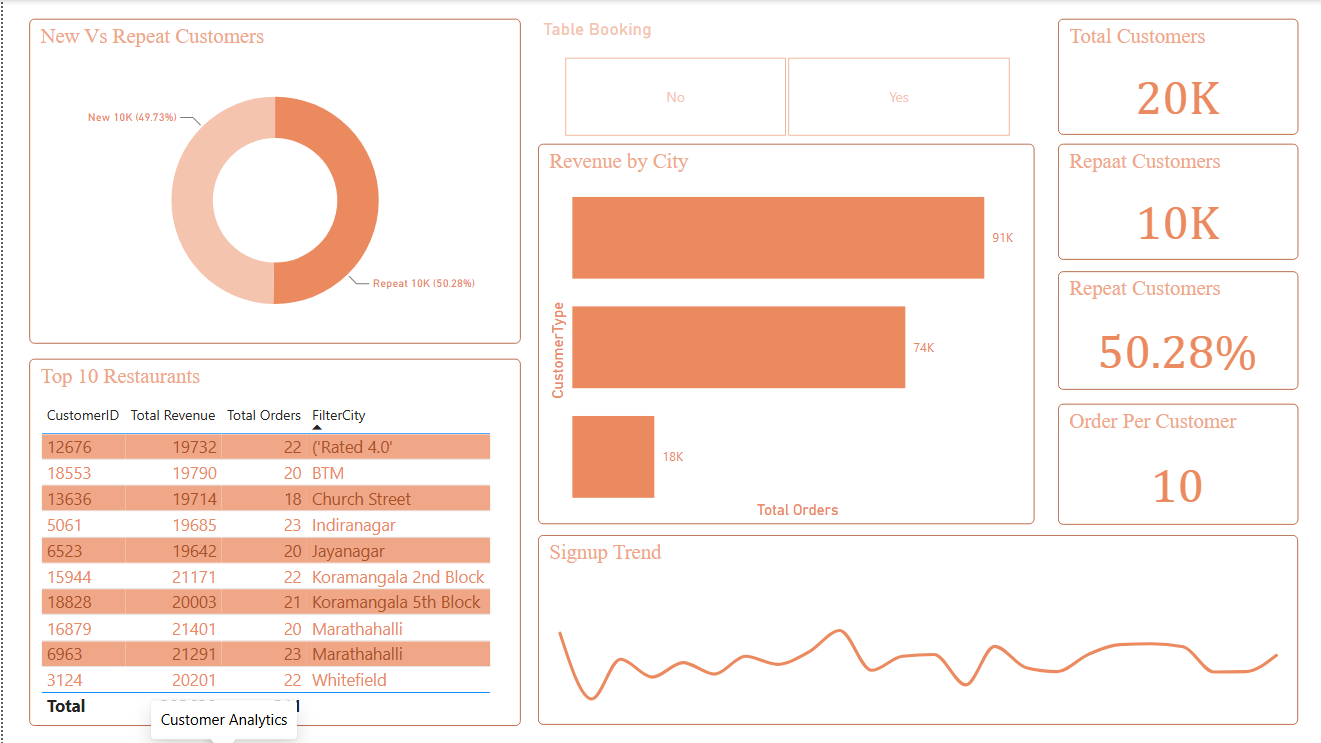

This screenshot's page, from the dashboard's own definition file:
{"tool":"powerbi","page":{"name":"Customer Analytics","canvas":[1280,720],"ordinal":1},"visuals":[{"type":"cardVisual","title":"Total Customers","fields":{"Data":["Orders.Total Customers"]},"box":[1018.2,18.1,231.6,112.2],"z":0},{"type":"cardVisual","title":"Order Per Customer","fields":{"Data":["Orders.Orders Per Customer"]},"box":[1018.2,389.7,231.6,117],"z":1000},{"type":"cardVisual","title":"Repeat Customers ","fields":{"Data":["Orders.Repeat Customer %"]},"box":[1018.2,261.8,231.6,114.6],"z":2000},{"type":"cardVisual","title":"Repaat Customers","fields":{"Data":["Orders.Repeat Customers"]},"box":[1018.2,138.7,231.6,112.2],"z":3000},{"type":"barChart","title":"Revenue by City","fields":{"Y":["Orders.Total Orders"],"Category":["Customers.CustomerType"]},"box":[516.3,138.7,479.1,367.6],"z":4000},{"type":"donutChart","title":"New Vs Repeat Customers","fields":{"Category":["Customers.RepeatedVsNew"],"Y":["Orders.Total Customers"]},"box":[25.3,18.1,474.1,313.7],"z":5000},{"type":"tableEx","title":"Top 10 Restaurants","fields":{"Values":["Customers.CustomerID","Orders.Total Revenue","Orders.Total Orders","Customers.FilterCity"]},"box":[25.3,346.2,474.1,354.7],"z":6000},{"type":"lineChart","title":"Signup Trend","fields":{"Y":["Orders.Total Customers"],"Category":["Customers.SignupDate.Variation.Date Hierarchy.Year","Customers.SignupDate.Variation.Date Hierarchy.Month"]},"box":[516.4,516.4,733.5,183.4],"z":7000},{"type":"slicer","title":"Table Booking","fields":{"Values":["Restaurants.Book_Table 2"]},"box":[516.3,18.6,479.1,120.1],"z":8000}]}

Visuals, with their boxes on the page's 1280x720 design canvas (x1, y1, x2, y2). These are canvas units, not pixel positions in the 1321x743 screenshot, which may show the page scaled, cropped or inside an application window:
"Total Customers" cardVisual: select_region(1018, 18, 1250, 130)
"Order Per Customer" cardVisual: select_region(1018, 390, 1250, 507)
"Repeat Customers " cardVisual: select_region(1018, 262, 1250, 376)
"Repaat Customers" cardVisual: select_region(1018, 139, 1250, 251)
"Revenue by City" barChart: select_region(516, 139, 995, 506)
"New Vs Repeat Customers" donutChart: select_region(25, 18, 499, 332)
"Top 10 Restaurants" tableEx: select_region(25, 346, 499, 701)
"Signup Trend" lineChart: select_region(516, 516, 1250, 700)
"Table Booking" slicer: select_region(516, 19, 995, 139)
